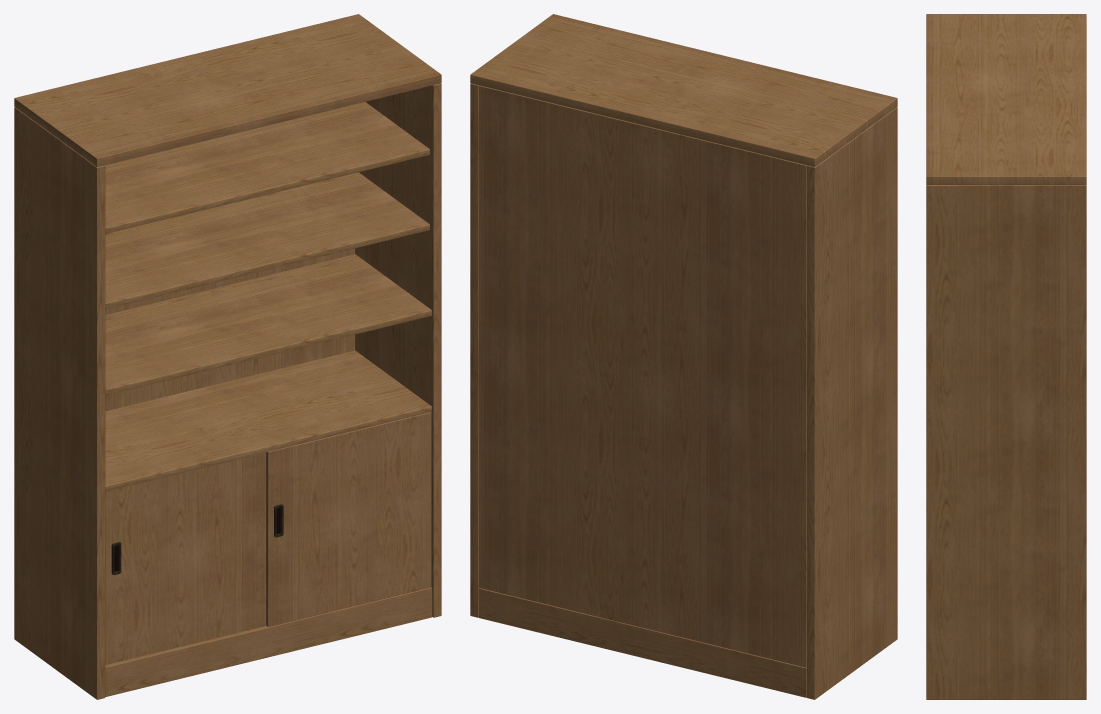
Rendered from Shelf_04.FBX.
3 views of the same model, side by side, from view 1: azimuth 30°, elevation 25°; view 2: azimuth 150°, elevation 25°; view 3: azimuth 270°, elevation 25° (orthographic). The views are drawn at different scales.
Visible parts, largest first — view 1: Shelf_04; view 2: Shelf_04; view 3: Shelf_04.
Part boxes in pixels (x1,y1,x2,y2): Shelf_04: [14, 14, 441, 699]; Shelf_04: [470, 14, 897, 699]; Shelf_04: [926, 14, 1086, 699].
Bounding box in the file's own units: 120 × 180 × 50.
